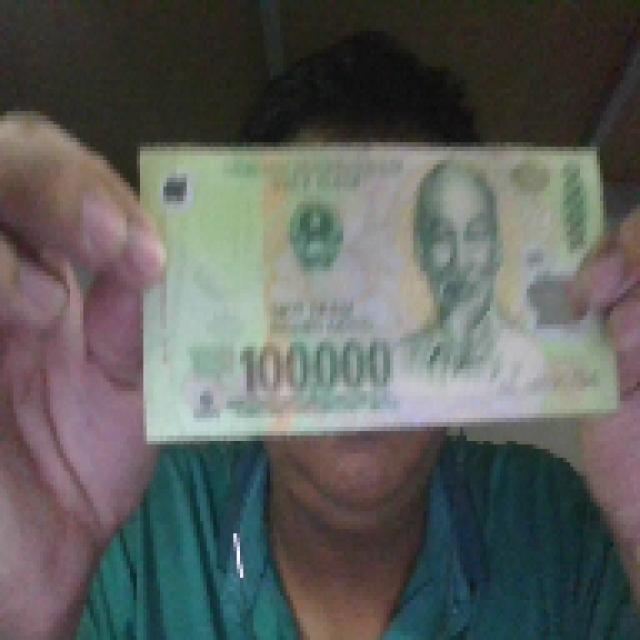100 000 VND: (132, 133, 622, 444)
